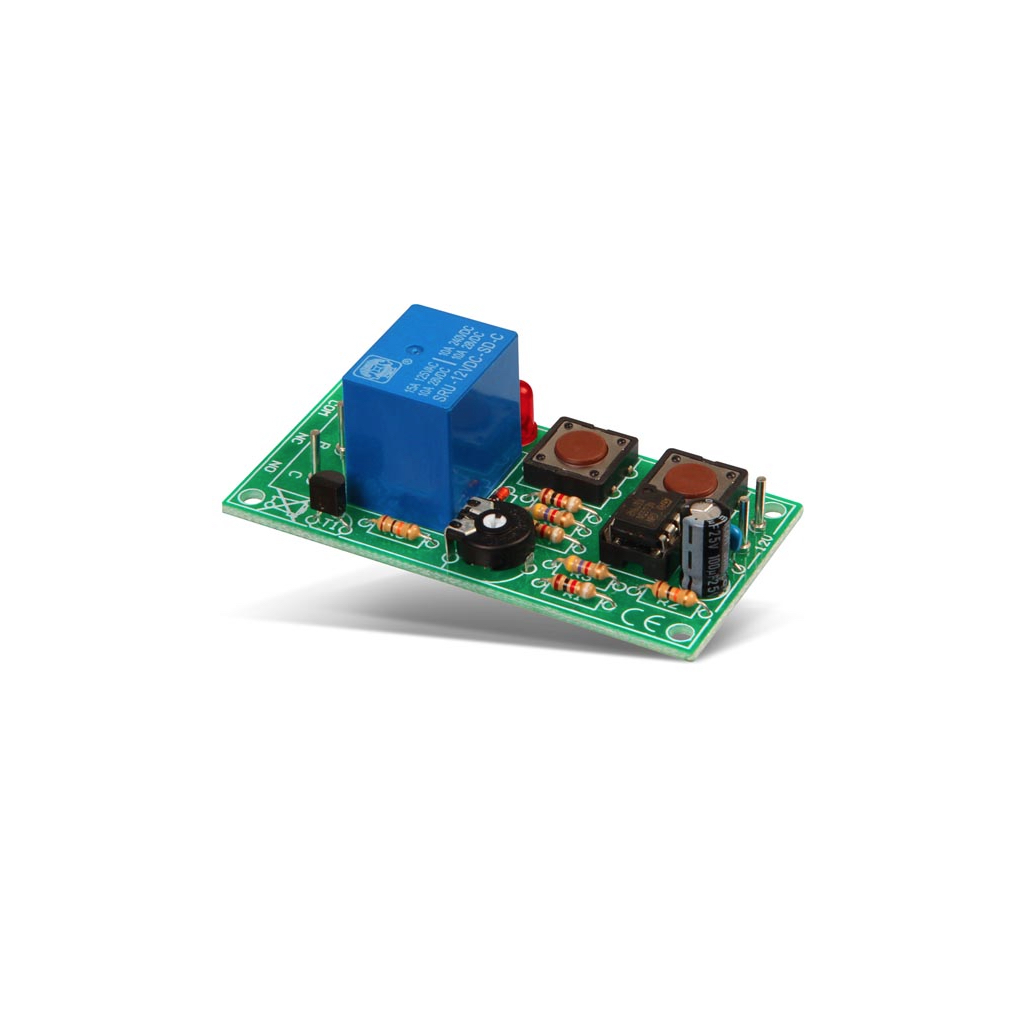Capacitor: (679, 497, 731, 599)
LED: (518, 375, 540, 448)
Resistor: (649, 579, 703, 608), (373, 512, 424, 542), (527, 501, 578, 530), (550, 572, 599, 601), (562, 553, 611, 581), (523, 516, 569, 545), (536, 487, 585, 514)
